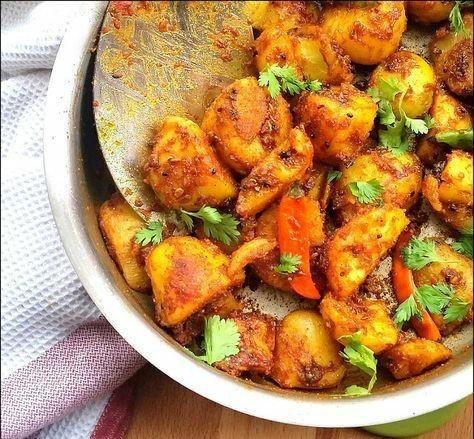AlooMasala: (96, 0, 474, 391)
